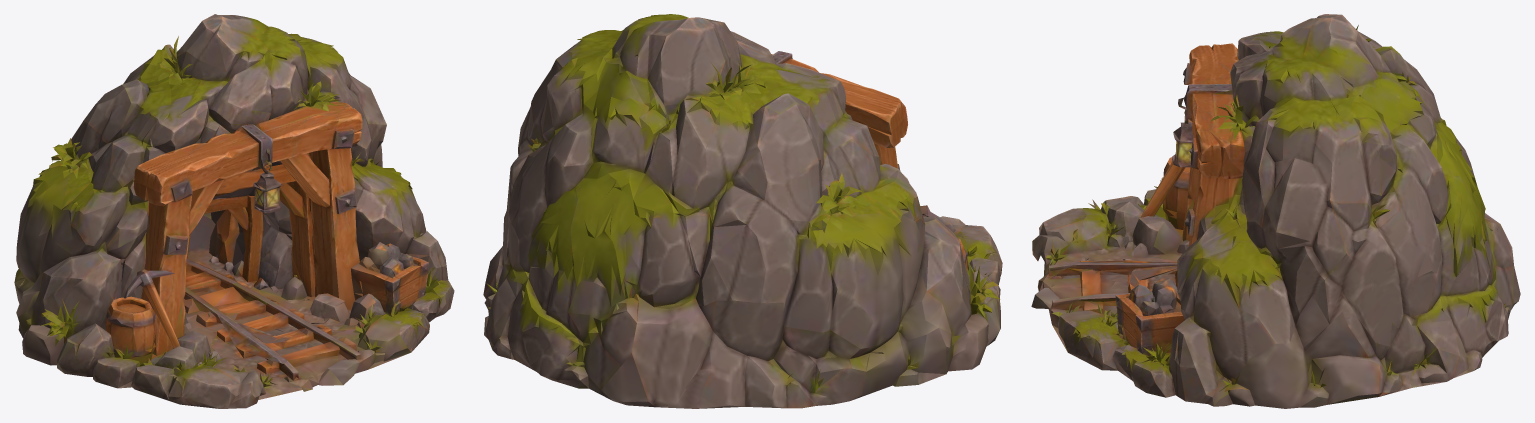
File: prop_mineentrance.glb
The picture shows the model from 3 angles, left to right: view 1: azimuth 30°, elevation 25°; view 2: azimuth 150°, elevation 25°; view 3: azimuth 270°, elevation 25°; orthographic projection. The views are drawn at different scales.
Visible parts, largest first — view 1: output_unwrapped; view 2: output_unwrapped; view 3: output_unwrapped.
Boxes of the visible parts, <box> form: output_unwrapped: <box>14,14,454,408</box>; output_unwrapped: <box>483,14,1002,408</box>; output_unwrapped: <box>1031,14,1520,408</box>.
Bounding box in the file's own units: 1.9 × 1.21 × 1.81.
Materials: 1 (1 with a texture image).
